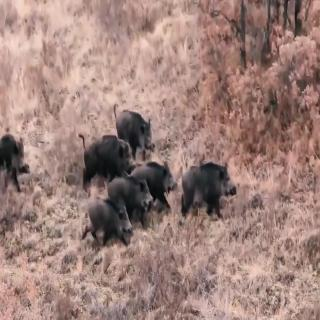Pig: (177, 151, 244, 212), (92, 189, 143, 247), (0, 119, 34, 200), (112, 96, 160, 152), (84, 121, 128, 171), (114, 169, 154, 213), (140, 154, 176, 193)
